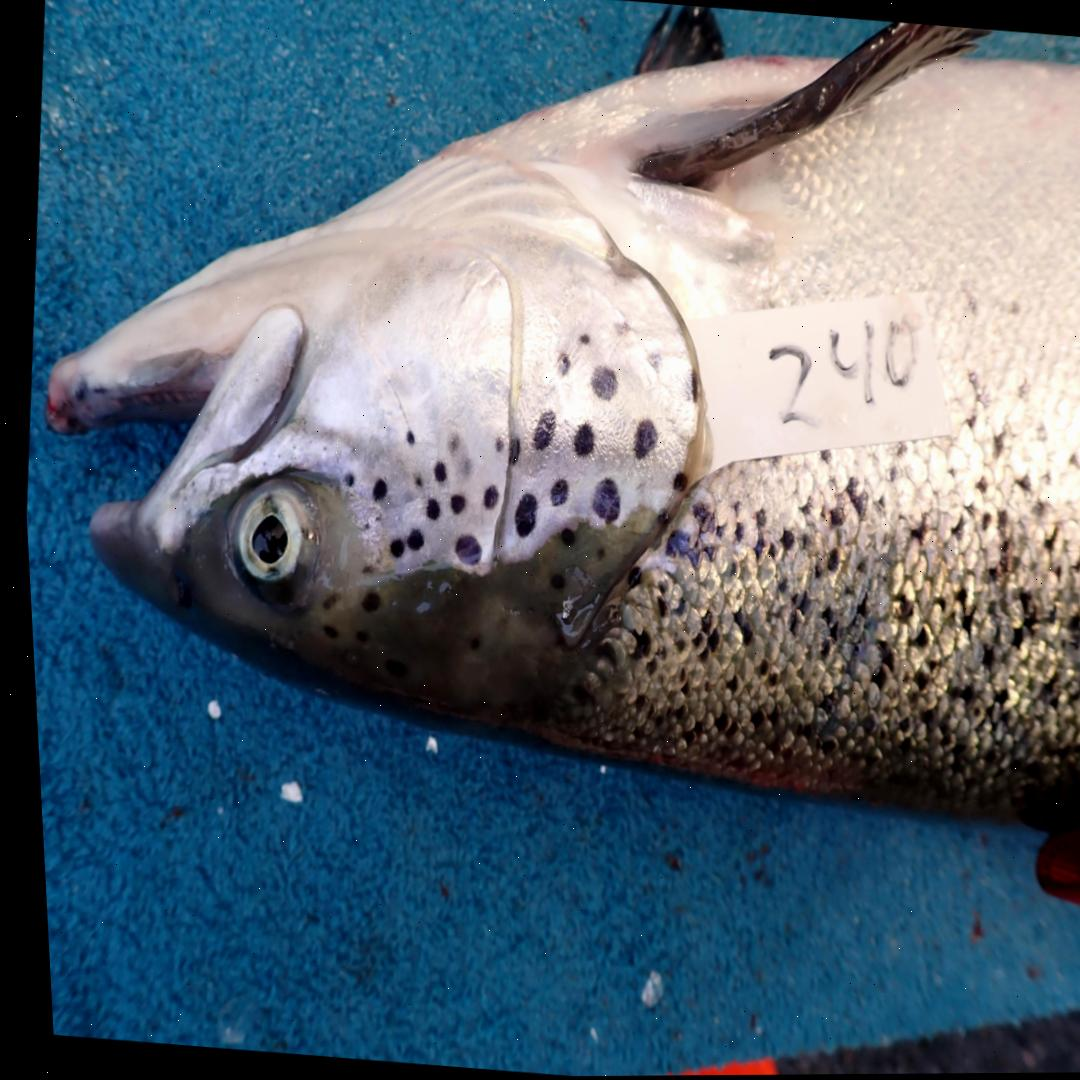spot: (587, 478, 615, 524), (509, 494, 532, 539), (629, 419, 653, 461), (586, 368, 614, 402), (528, 411, 551, 451), (449, 537, 475, 566), (568, 426, 590, 457), (545, 480, 562, 508), (642, 350, 659, 373), (367, 479, 382, 502), (401, 530, 418, 550), (504, 437, 516, 465), (479, 486, 492, 511), (355, 560, 372, 578), (445, 494, 460, 514), (668, 473, 683, 493), (429, 462, 442, 484), (553, 354, 566, 376), (384, 540, 399, 559), (421, 500, 434, 521), (610, 322, 627, 336), (443, 434, 454, 455), (686, 372, 693, 403), (454, 461, 465, 479), (338, 474, 349, 488), (490, 438, 499, 453), (575, 333, 586, 345), (402, 430, 410, 445), (410, 477, 419, 488), (358, 523, 365, 531), (369, 518, 375, 523)
